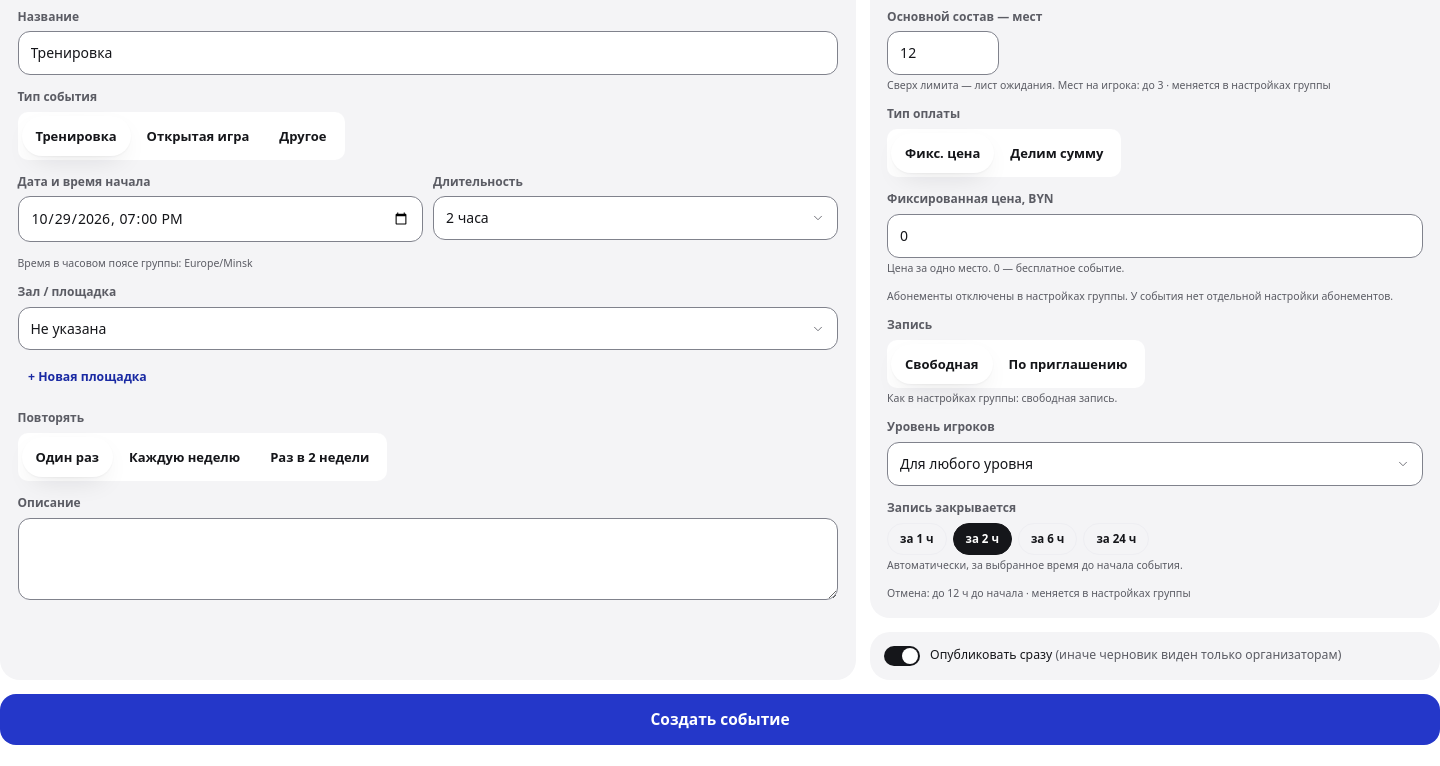
it: create a series with preview › shows a preview failure with a retry and does not allow creating blindly
Replace the text in the field with id "ev-start" with "2030-06-08T19:00": x=220, y=219 [18,196,422,242]
Wait 400 ms
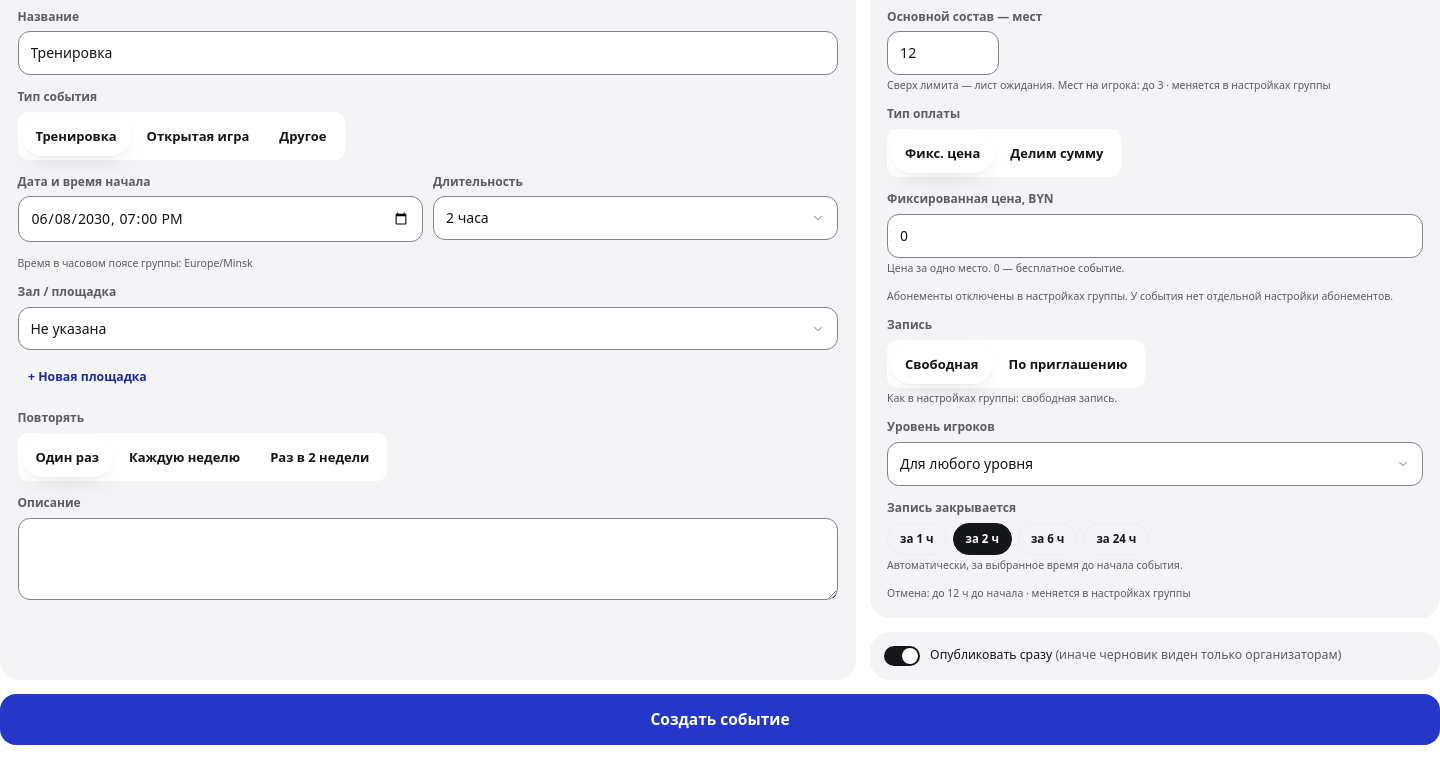
Click the radio button labelled "Каждую неделю": x=185, y=457 [115,437,254,477]
Wait 400 ms
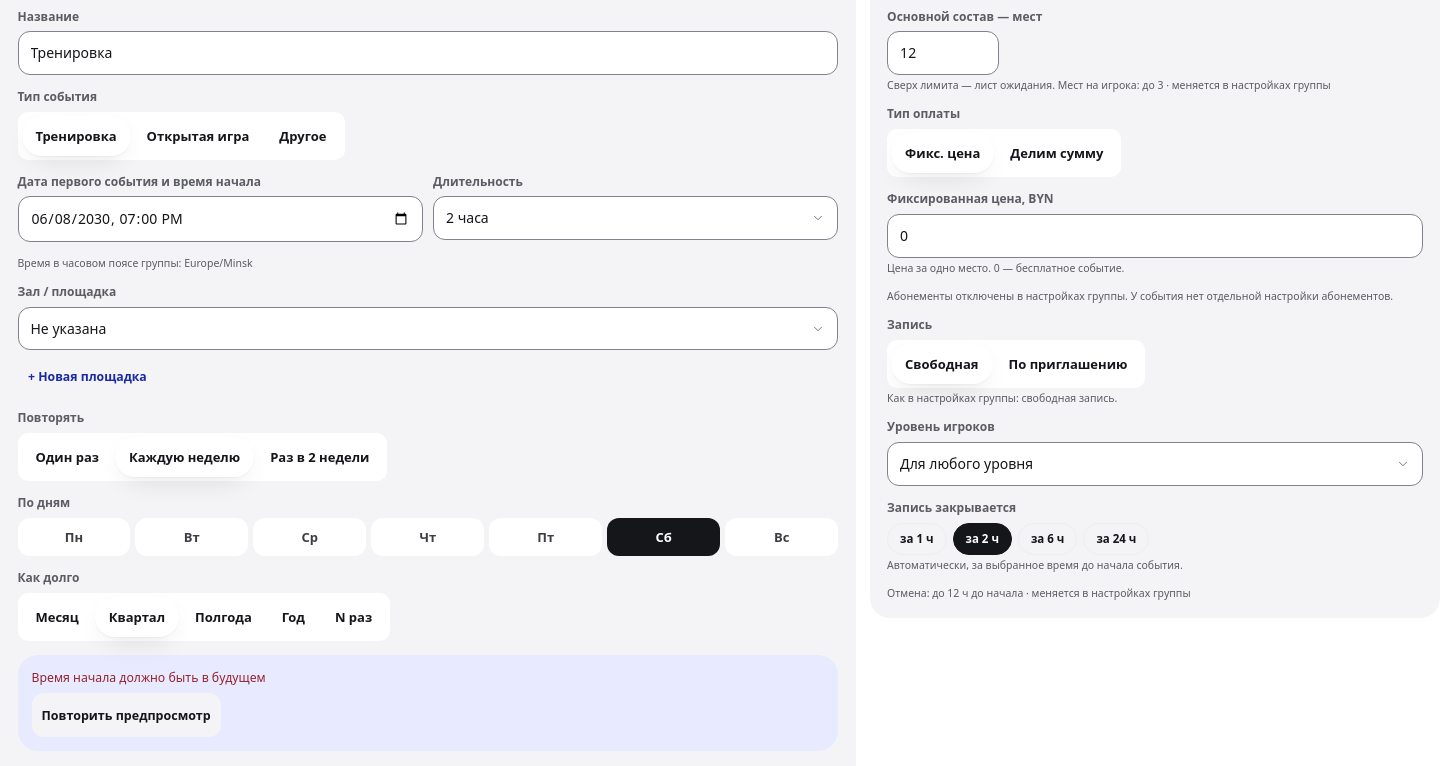
Now the text "Время начала должно быть в будущем" is shown, box [32,669,266,686]
Click the button "Повторить предпросмотр": x=126, y=715 [32,693,221,737]
Wait 400 ms
(page scrolled)
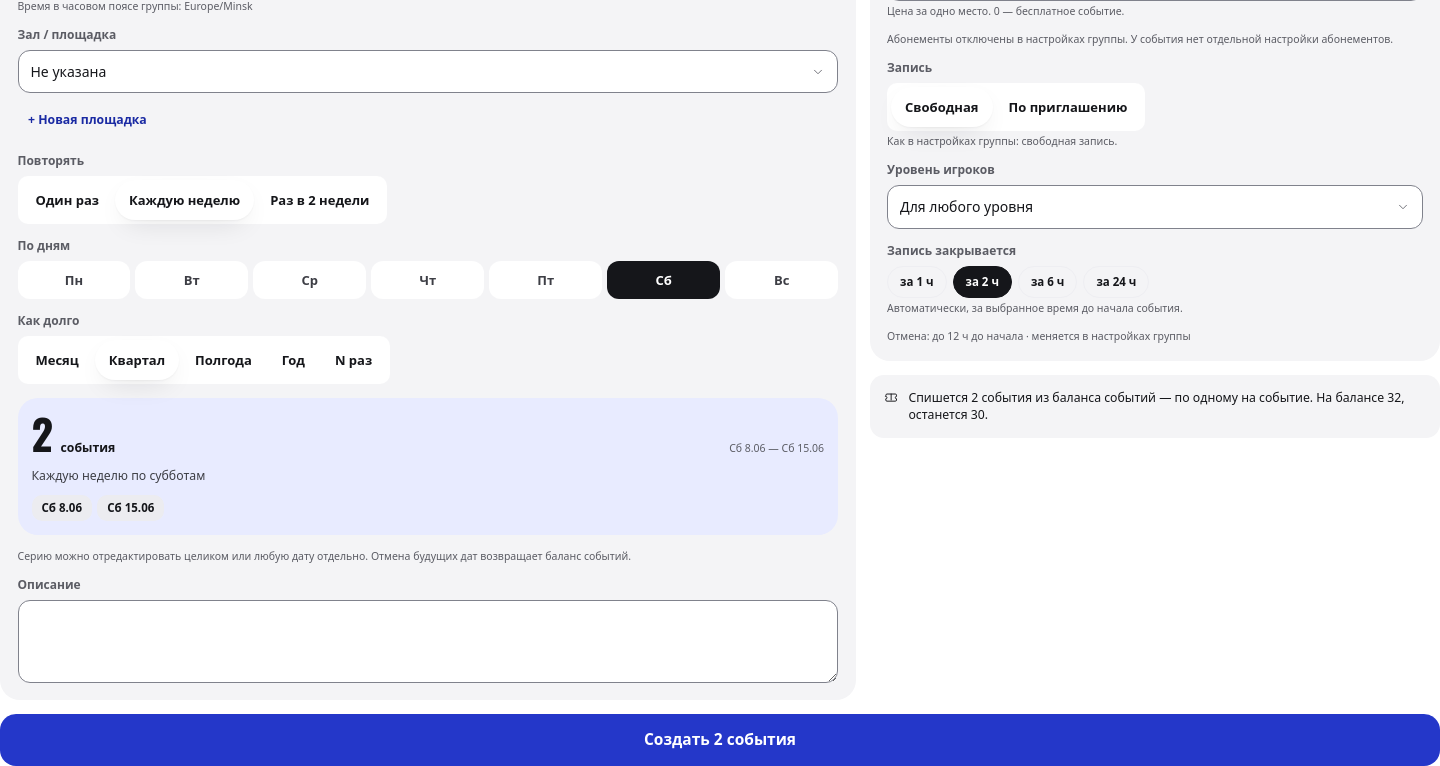
Now the submit button is enabled, box [0,714,1439,765]
